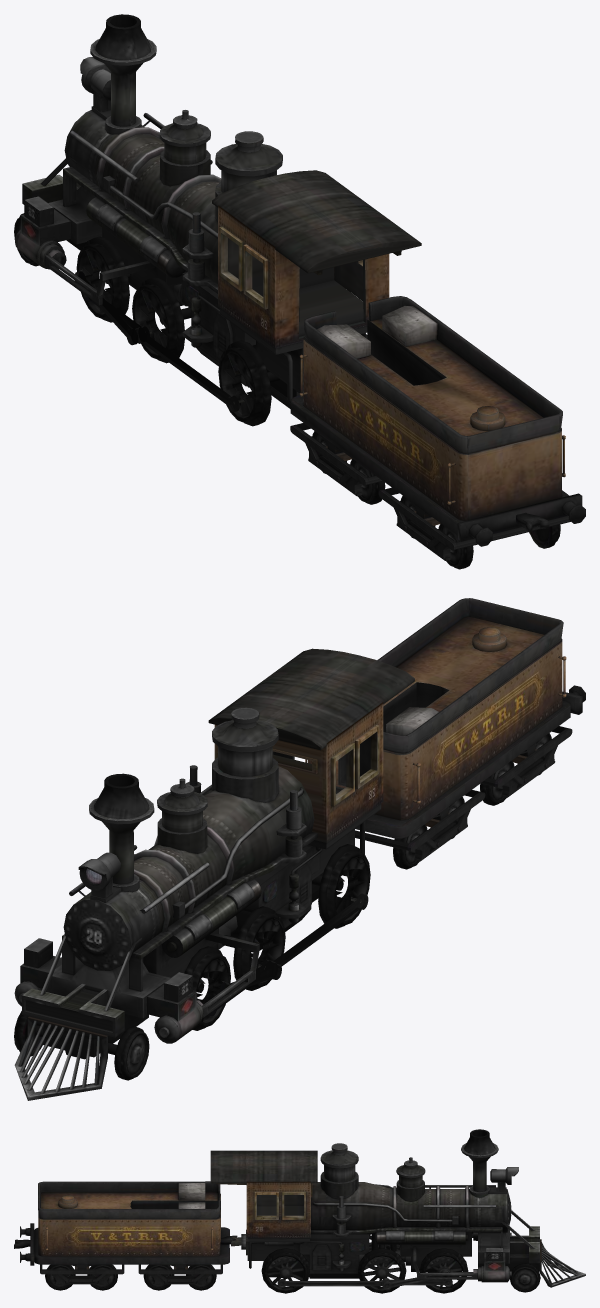
File: loco.glb
3 renders of one model, top to bottom at view 1: azimuth 30°, elevation 25°; view 2: azimuth 150°, elevation 25°; view 3: azimuth 270°, elevation 25°, orthographic. The views are drawn at different scales.
Visible parts, largest first — view 1: Cube_000_0; view 2: Cube_000_0; view 3: Cube_000_0.
Part boxes in pixels (left/top/right/bottom): Cube_000_0: left=14, top=14, right=585, bottom=569; Cube_000_0: left=14, top=598, right=585, bottom=1100; Cube_000_0: left=14, top=1129, right=585, bottom=1293.
Size of the model in its own units: 3.77 by 5.62 by 20.
Materials: 2 (2 with a texture image).
